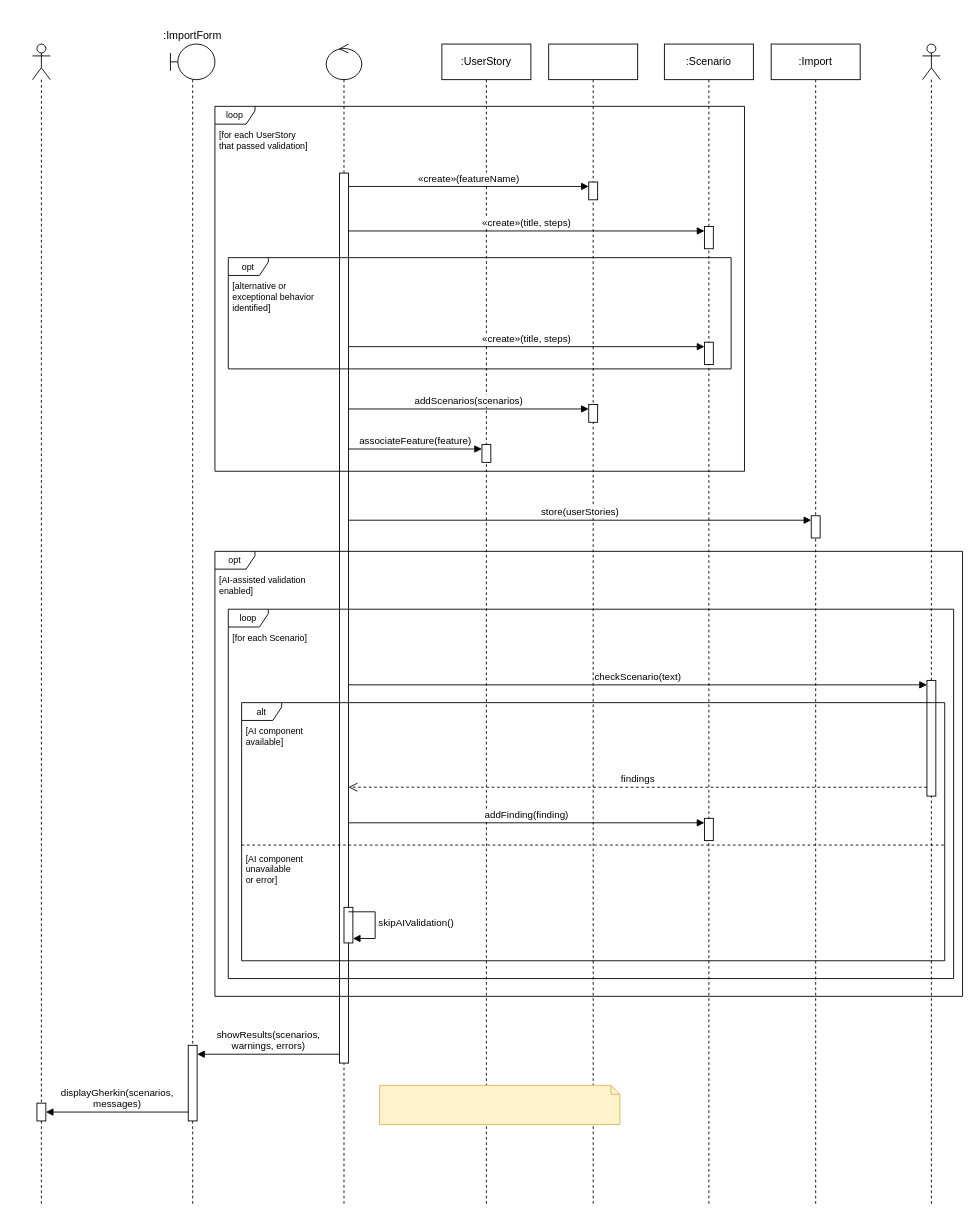
The diagram is 978 pixels wide and 1221 high, and some of its shapes have lost their labels. Each missing label, with the box of its shape:
:Feature: (548, 43, 638, 1206)
:GenerationControl: (325, 43, 362, 1206)
AI Component: (922, 43, 940, 1206)
messages: warnings, errors, AI findings, or an "AI check skipped" notice: (379, 1084, 620, 1125)
Registered User: (32, 43, 50, 1206)
